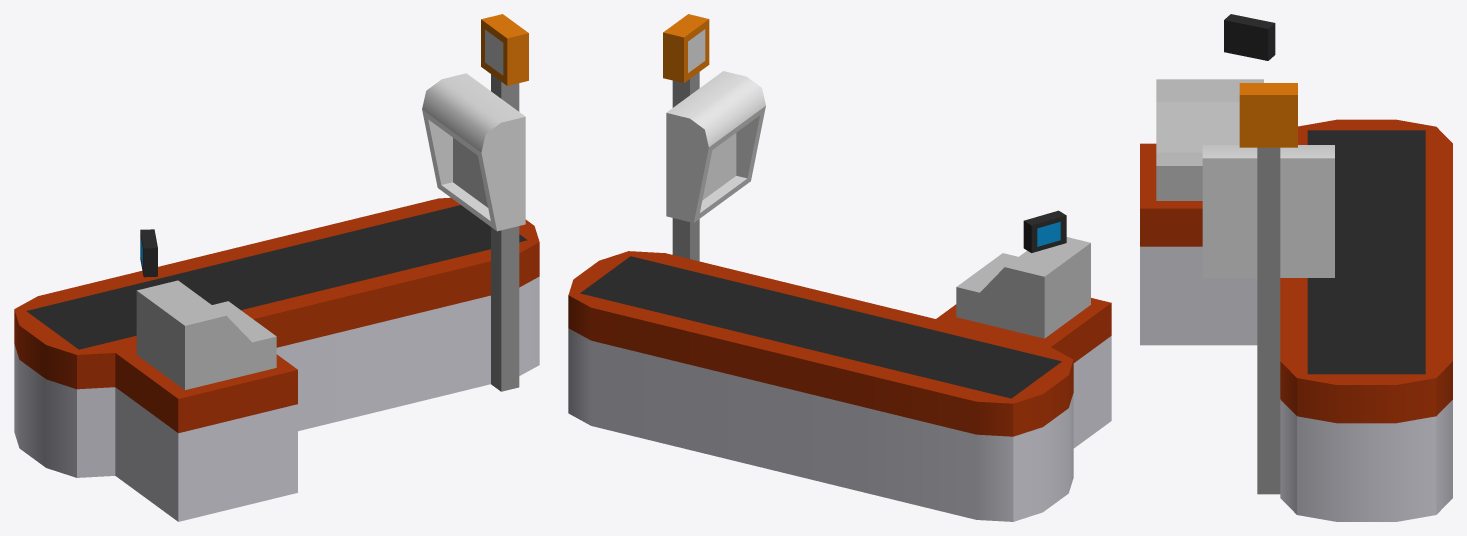
The model's file is shop_table.fbx.
The picture shows the model from 3 angles, left to right: view 1: azimuth 30°, elevation 25°; view 2: azimuth 150°, elevation 25°; view 3: azimuth 270°, elevation 25°; orthographic projection. The views are drawn at different scales.
Parts seen in each view (by area): view 1: shop_table; view 2: shop_table; view 3: shop_table.
Boxes of the visible parts, x1=… form: shop_table: x1=14, y1=14, x2=539, y2=521; shop_table: x1=568, y1=14, x2=1111, y2=521; shop_table: x1=1140, y1=14, x2=1452, y2=521.
Bounding box in the file's own units: 593 × 417 × 295.
